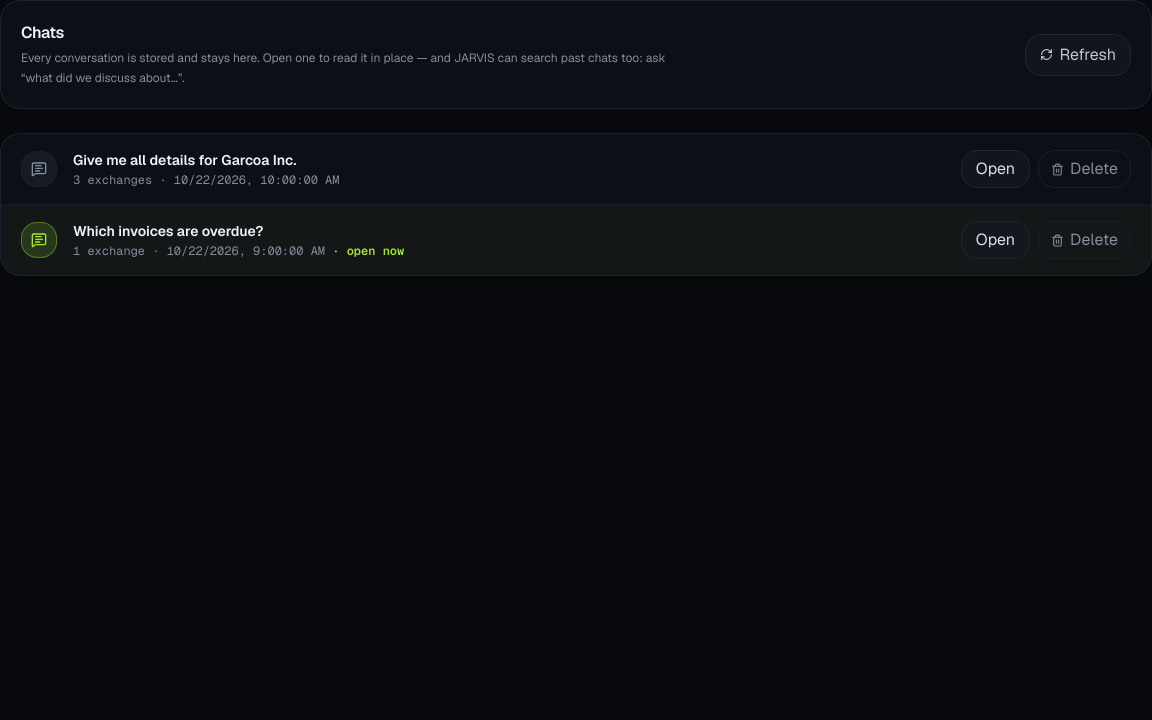
Test case: ChatHistoryPanel › opens a stored chat in a popup, in place - no trip to the Command Center
Expected: the text "Give me all details for Garcoa Inc." is shown, [73,151,296,169]
Click the button "Open" in the row of "Give me all details for Garcoa Inc." at (995, 169), box [961,150,1030,188]
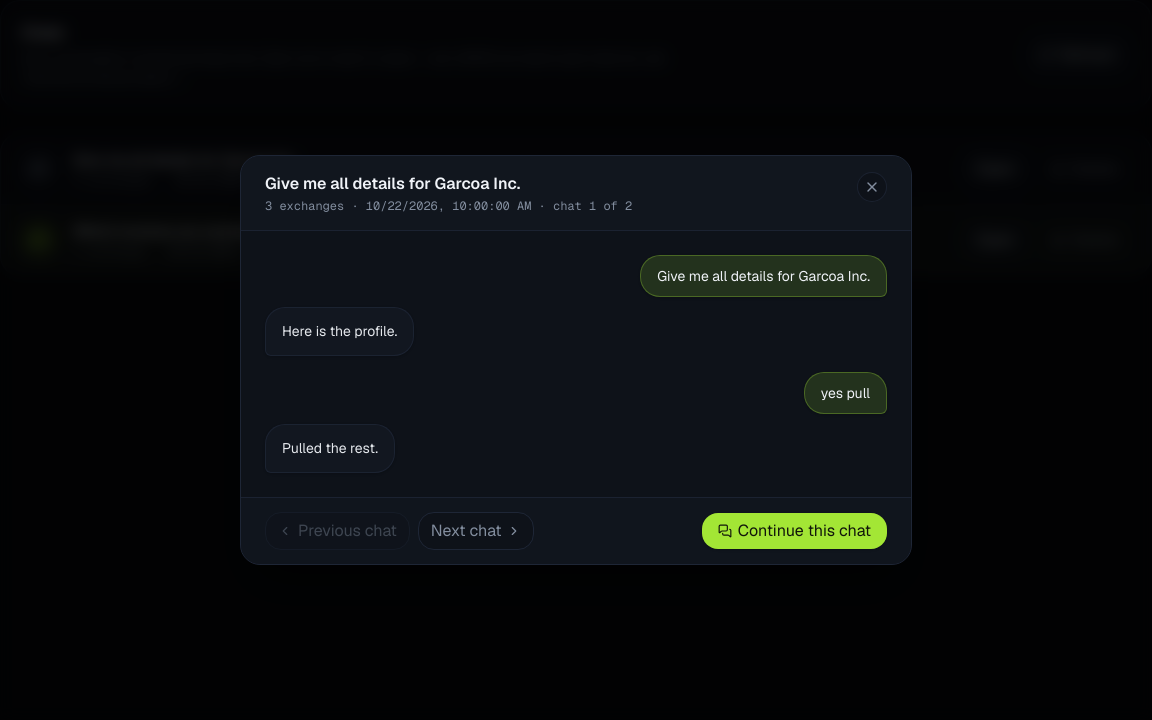
Expected: the text "Here is the profile." is shown, [265,307,414,356]
Expected: the text "Pulled the rest." is shown, [265,424,395,473]
Expected: the text "3 exchanges · 10/22/2026, 10:00:00 AM · chat 1 of 2" is shown, [265,198,632,214]
